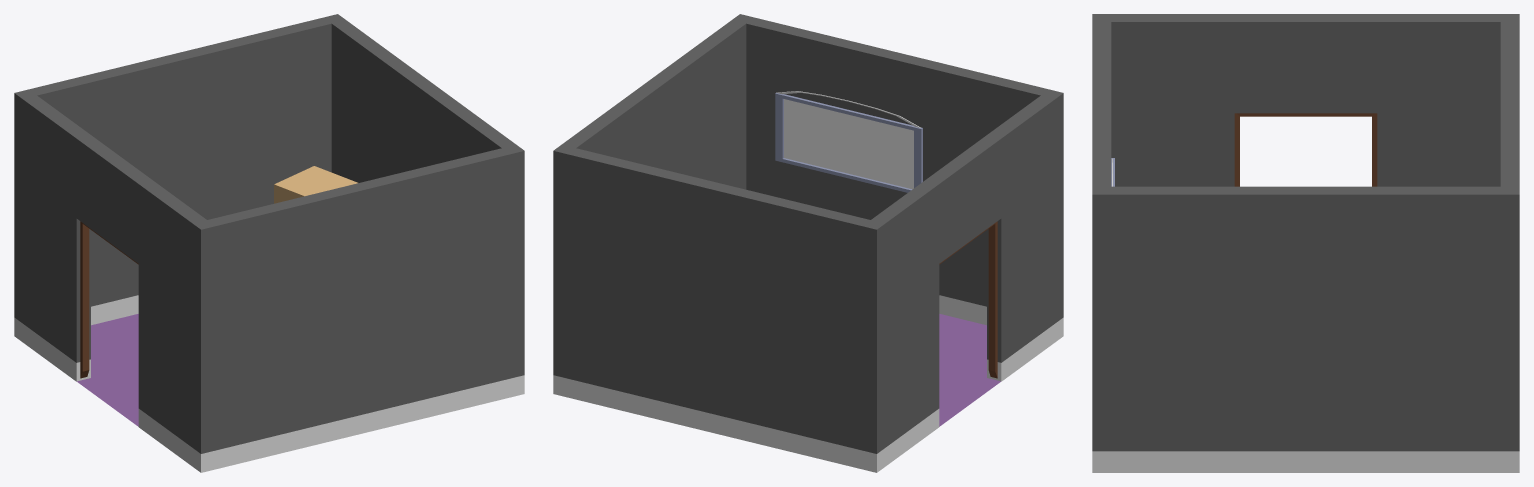
File: Backroom.fbx
3 views of the same model, side by side, from view 1: azimuth 30°, elevation 25°; view 2: azimuth 150°, elevation 25°; view 3: azimuth 270°, elevation 25° (orthographic). The views are drawn at different scales.
Visible parts, largest first — view 1: StructureBase.006, Plane.007, Package.001; view 2: StructureBase.006, Painting, Plane.007; view 3: StructureBase.006.
Boxes of the visible parts, x1,y1,x2,y2 form: StructureBase.006: (14,14,524,472); Plane.007: (77,314,138,426); Package.001: (274,166,357,203); StructureBase.006: (553,14,1063,472); Painting: (775,93,922,192); Plane.007: (939,314,1000,426); StructureBase.006: (1092,14,1519,472).
Size of the model in its own units: 447 by 321 by 447.
